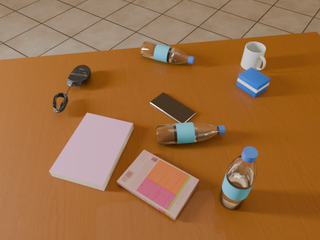book: (49, 113, 133, 191), (117, 150, 199, 220)
bottle: (219, 147, 258, 210), (156, 122, 225, 145), (141, 41, 194, 64)
box: (237, 67, 270, 97)
cup: (241, 42, 266, 70)
mouse: (67, 65, 91, 87)
phone: (150, 92, 196, 123)
